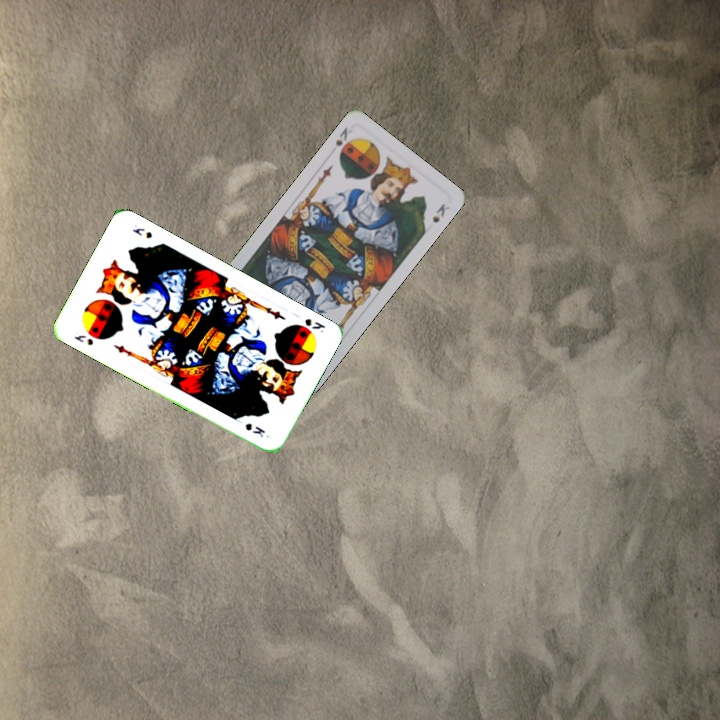SK: (331, 123, 356, 160), (301, 314, 328, 335), (70, 331, 96, 348)
